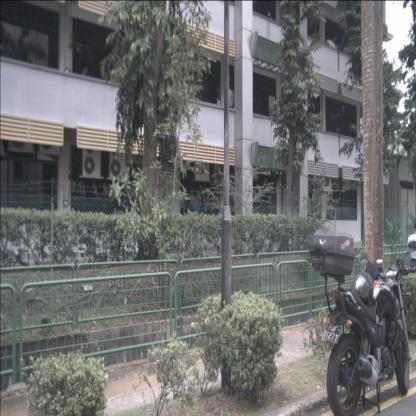human-pedestrian-adult: (407, 221, 415, 314)
vehicle-motorcycle: (309, 228, 416, 416)
